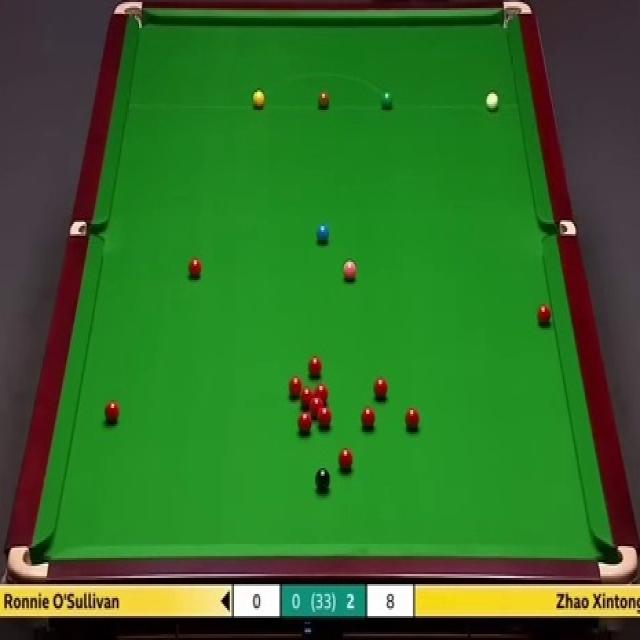black-ball: (315, 466, 332, 493)
blue-ball: (315, 222, 330, 245)
brown-ball: (317, 90, 330, 110)
green-ball: (380, 89, 393, 110)
pink-ball: (339, 257, 359, 285)
red-ball: (536, 303, 554, 331), (337, 446, 355, 473), (186, 258, 204, 281), (373, 376, 389, 401), (103, 400, 119, 424), (360, 407, 376, 431), (404, 408, 420, 432), (289, 378, 304, 402), (316, 408, 332, 430), (300, 388, 316, 408), (308, 357, 323, 378), (298, 412, 312, 433), (314, 384, 329, 403), (310, 397, 324, 416)
white-ball: (484, 90, 502, 114)
yellow-ball: (253, 90, 265, 110)
